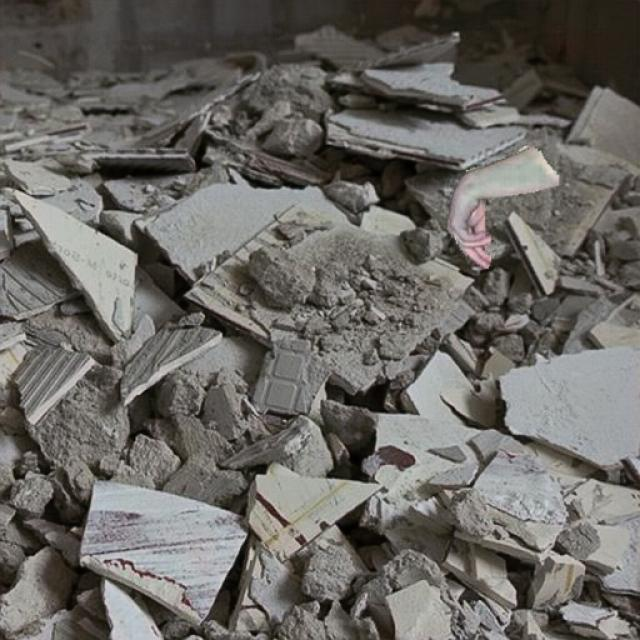Person in Rubble: (446, 146, 559, 268)
